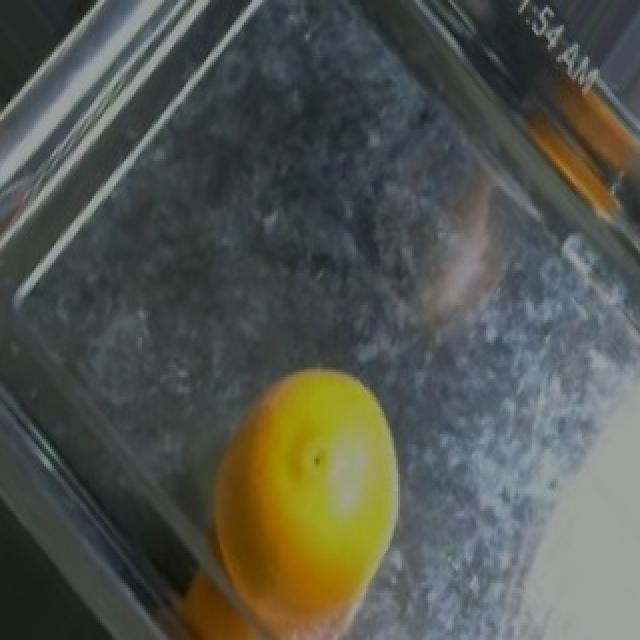Fruit: (182, 362, 430, 638)
